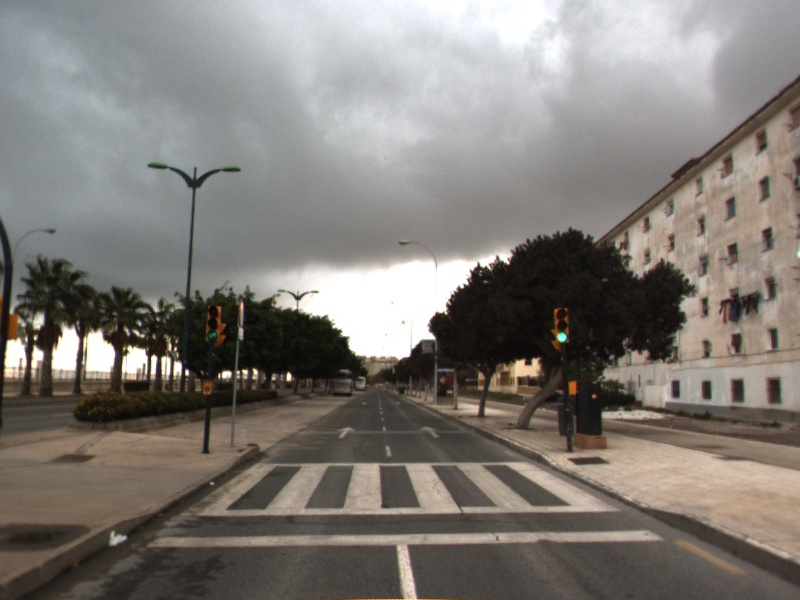STRAIGHT: (417, 424, 443, 440), (333, 425, 359, 441)
